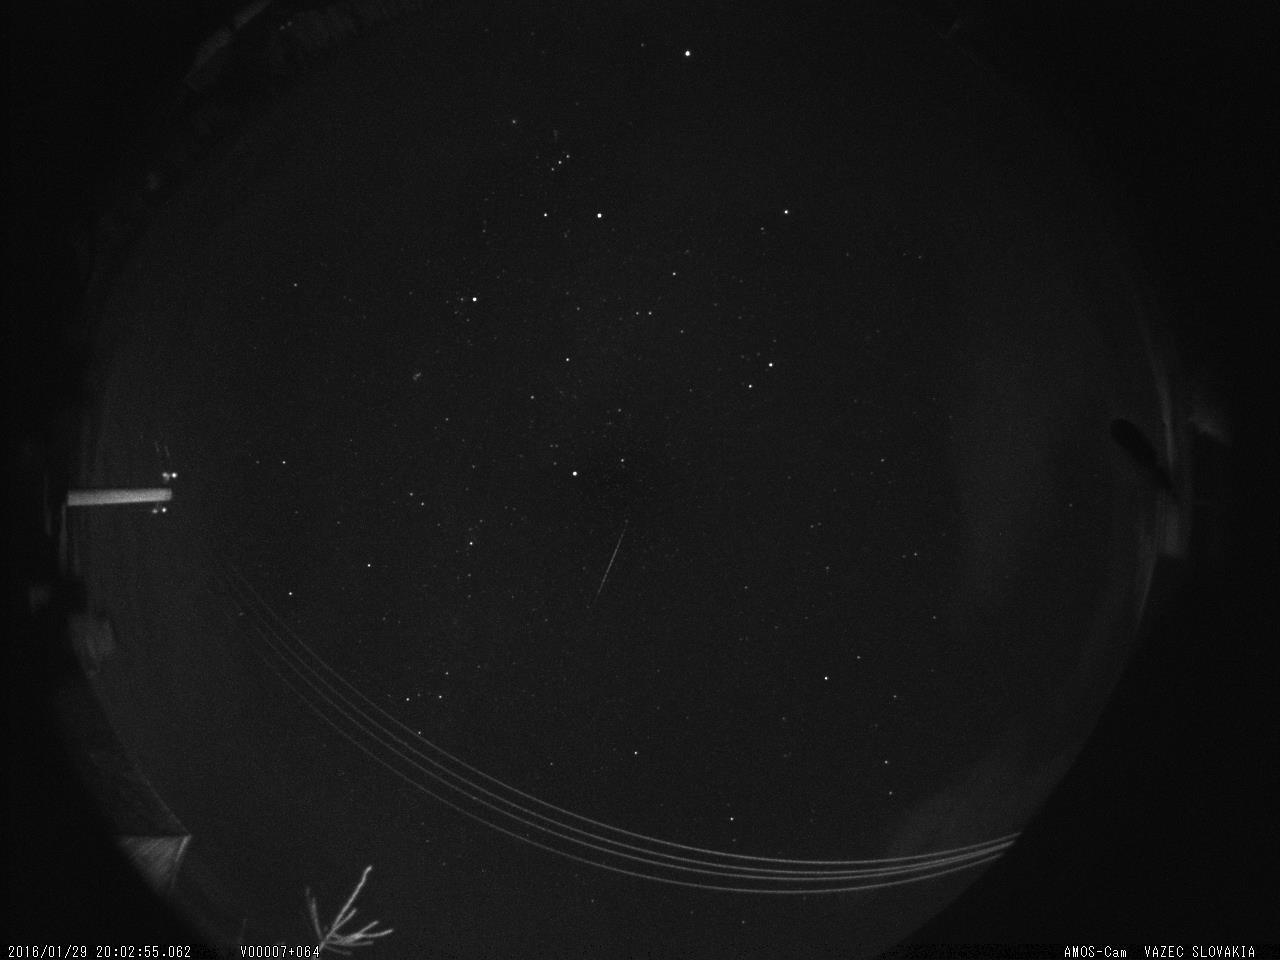Meteor: (586, 515, 633, 608)
